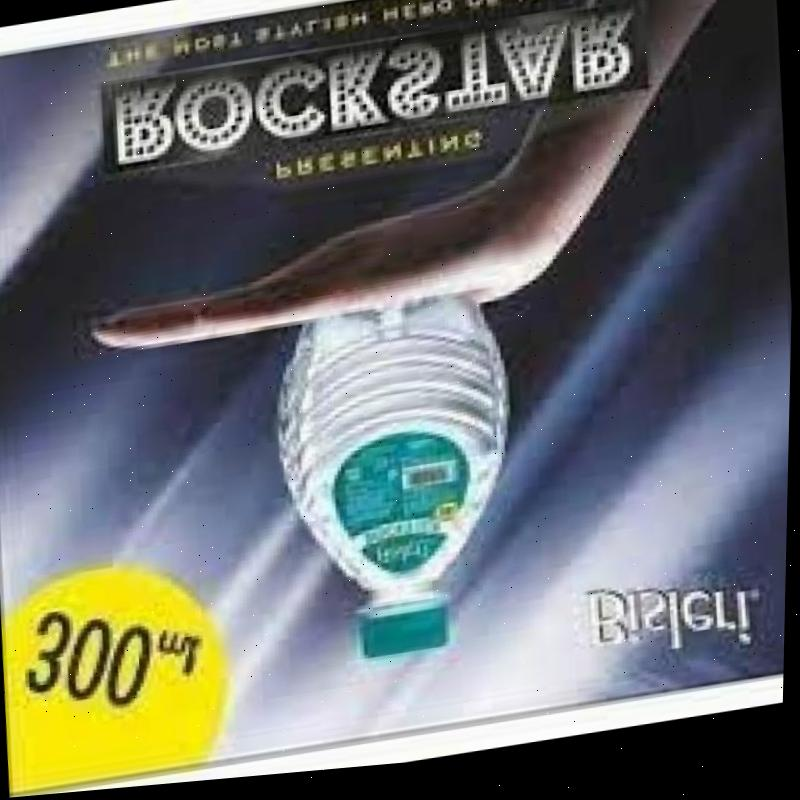botella: (266, 300, 528, 678)
